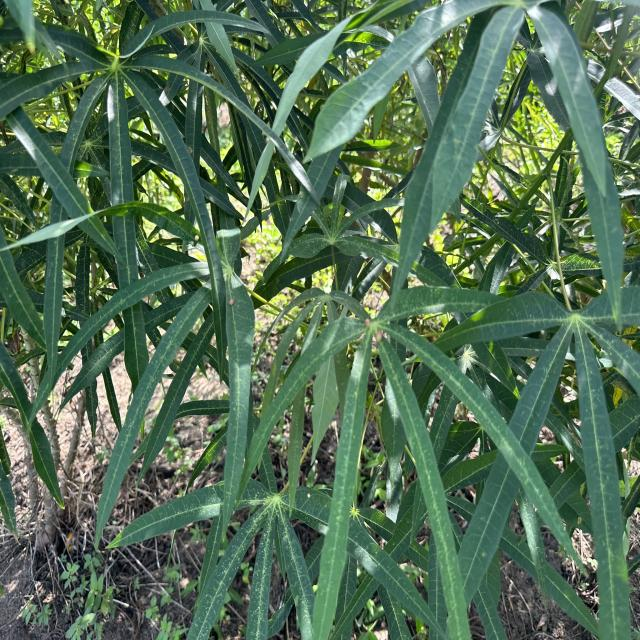Mosca: (355, 298, 415, 359), (299, 475, 327, 509), (220, 292, 249, 319), (307, 574, 332, 600)
